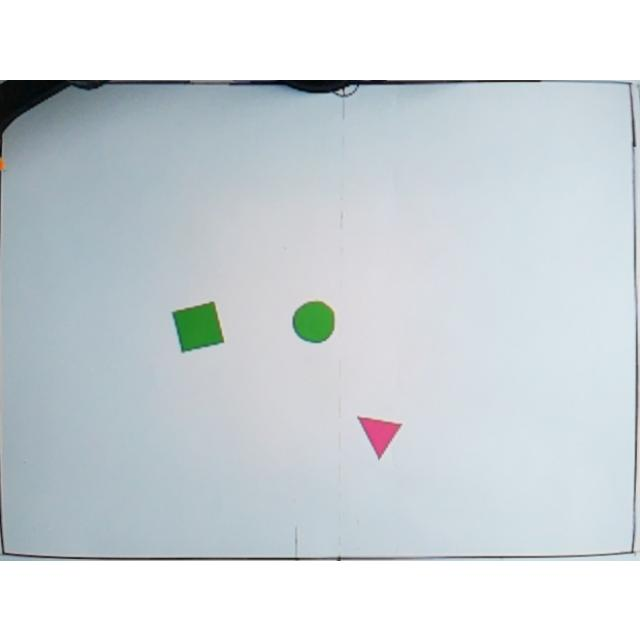greenCircle: (290, 296, 336, 344)
greenSquare: (171, 300, 227, 352)
pinkTriangle: (355, 412, 405, 462)
